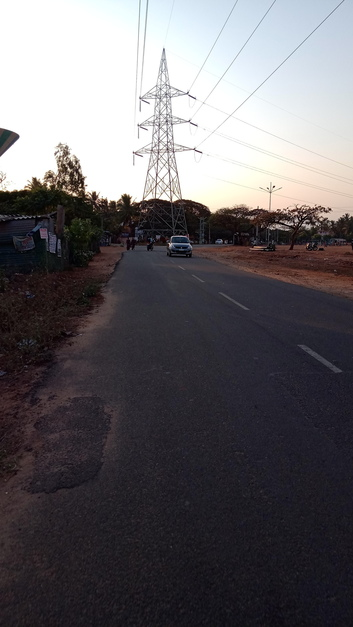bump: (115, 248, 209, 253)
